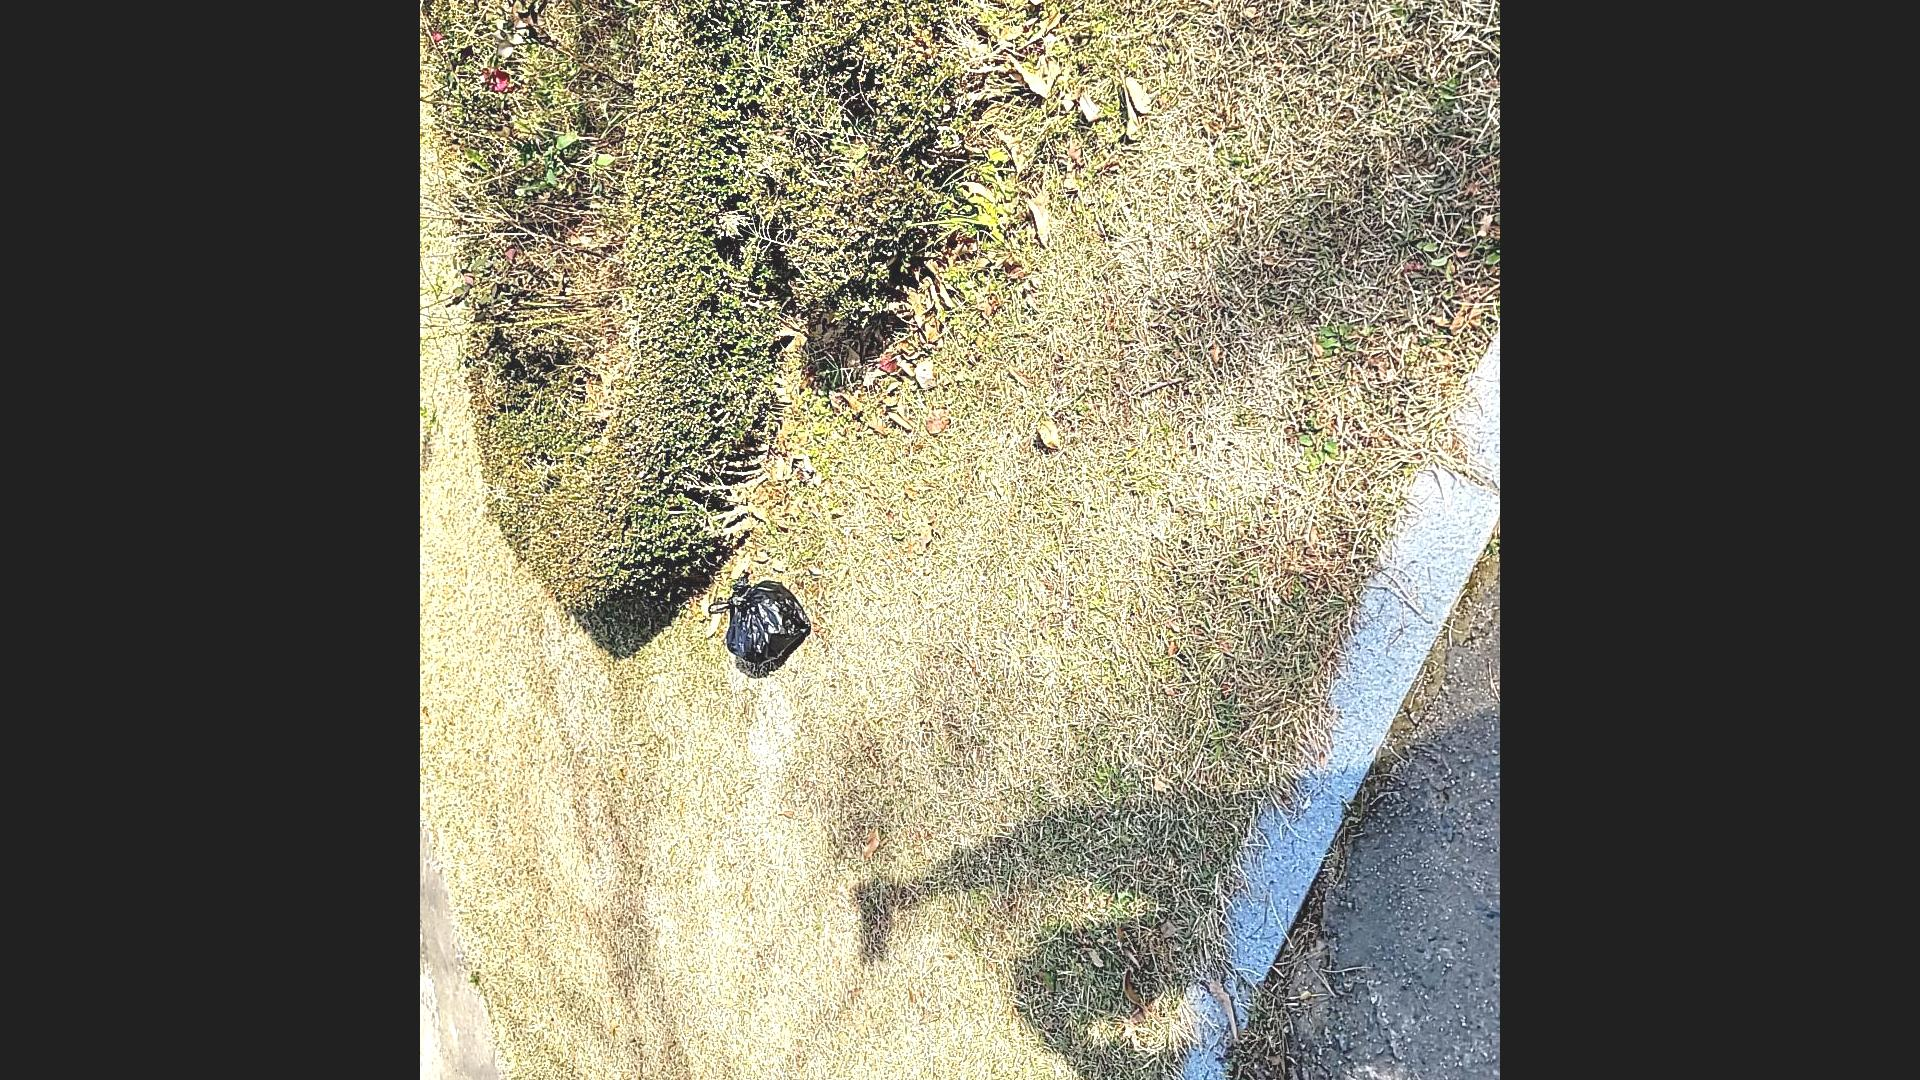black_bag: (705, 566, 815, 673)
